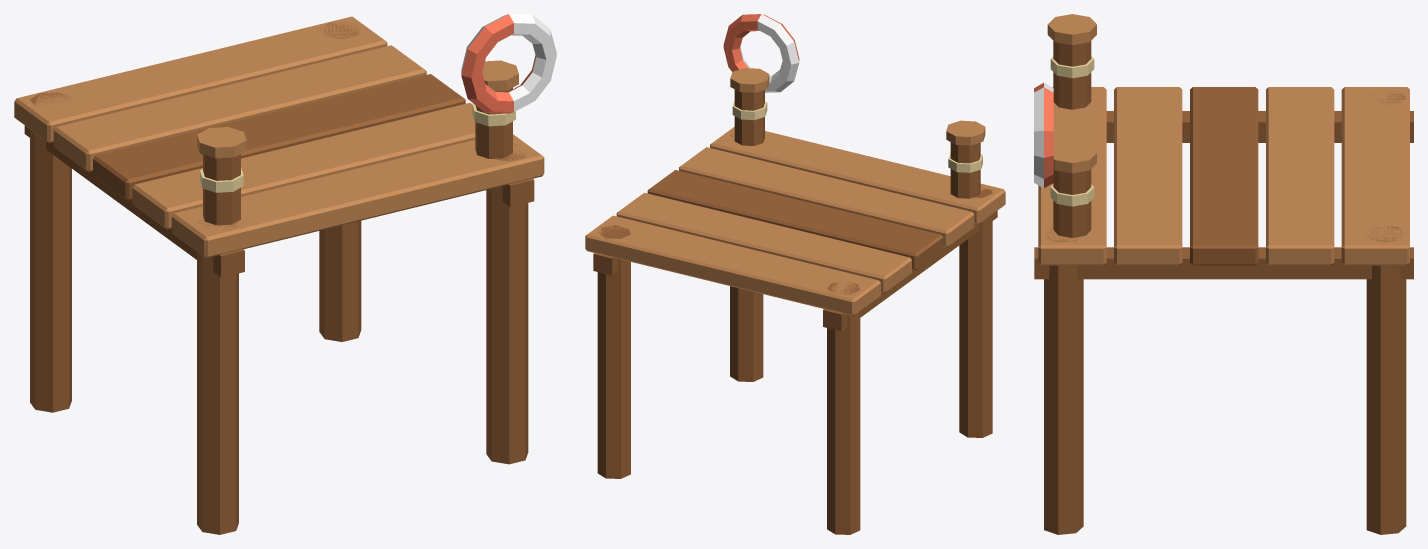
File: dock_end.glb
The picture shows the model from 3 angles, left to right: view 1: azimuth 30°, elevation 25°; view 2: azimuth 150°, elevation 25°; view 3: azimuth 270°, elevation 25°; orthographic projection. The views are drawn at different scales.
Parts seen in each view (by area): view 1: dock_end; view 2: dock_end; view 3: dock_end.
Part boxes in pixels (x1,y1,x2,y2): dock_end: (14, 14, 556, 534); dock_end: (585, 14, 1005, 534); dock_end: (1034, 14, 1413, 534).
Bounding box in the file's own units: 2.08 × 2.53 × 2.
